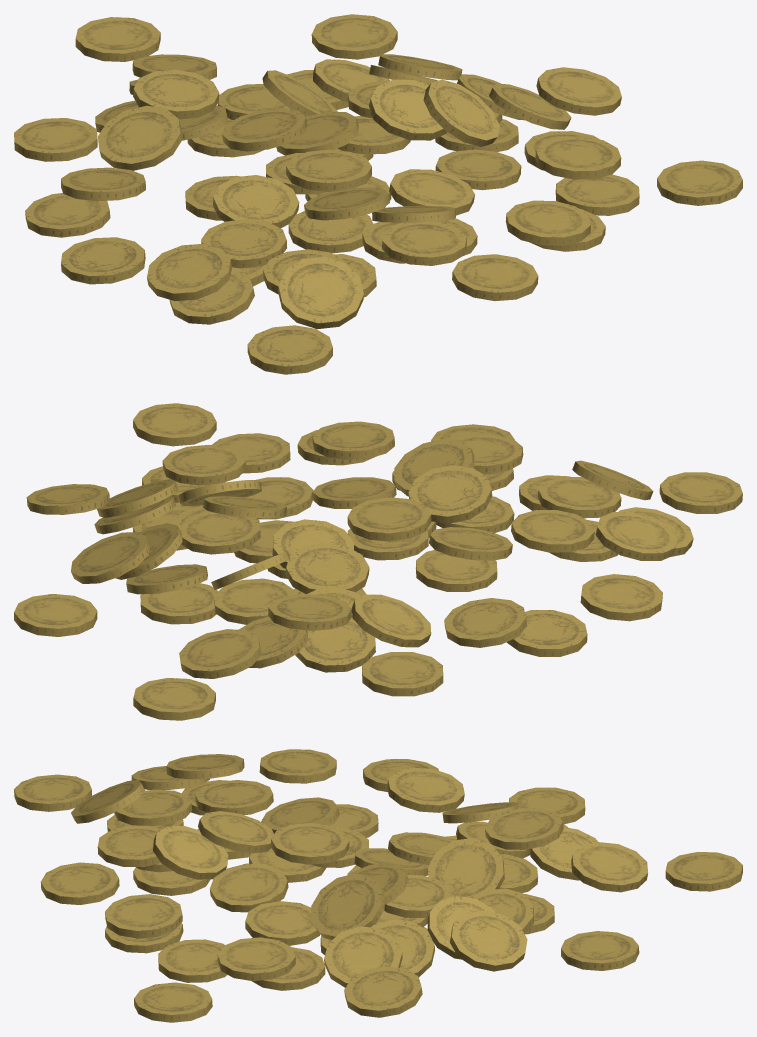
The model's file is Gold_Pile_Medium.fbx.
3 views of the same model, one above another, from view 1: azimuth 30°, elevation 25°; view 2: azimuth 150°, elevation 25°; view 3: azimuth 270°, elevation 25° (orthographic). The views are drawn at different scales.
Visible parts, largest first — view 1: Gold_Pile_Medium; view 2: Gold_Pile_Medium; view 3: Gold_Pile_Medium.
Part boxes in pixels (bbox=[...]): Gold_Pile_Medium: bbox=[14, 14, 742, 374]; Gold_Pile_Medium: bbox=[14, 403, 742, 720]; Gold_Pile_Medium: bbox=[14, 749, 742, 1022].
Size of the model in its own units: 1.13 by 0.1235 by 1.3.
1 material, 1 textured.
